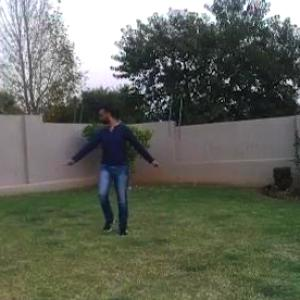land: (51, 88, 162, 240)
